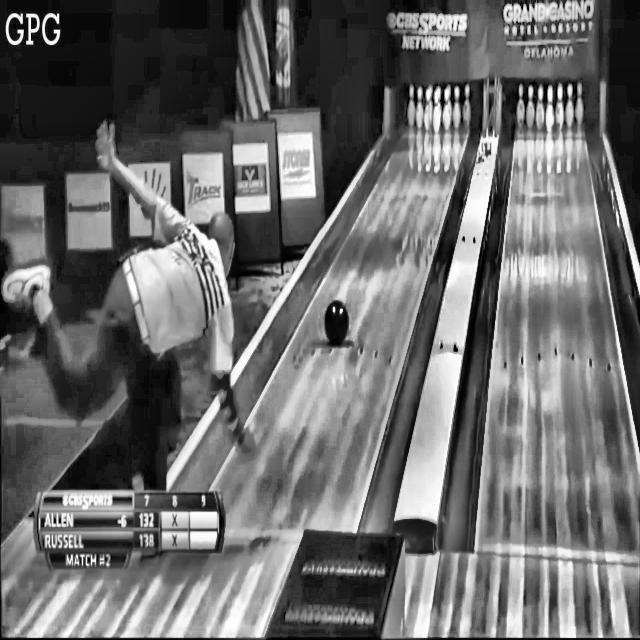bowling-ball: (325, 300, 348, 345)
